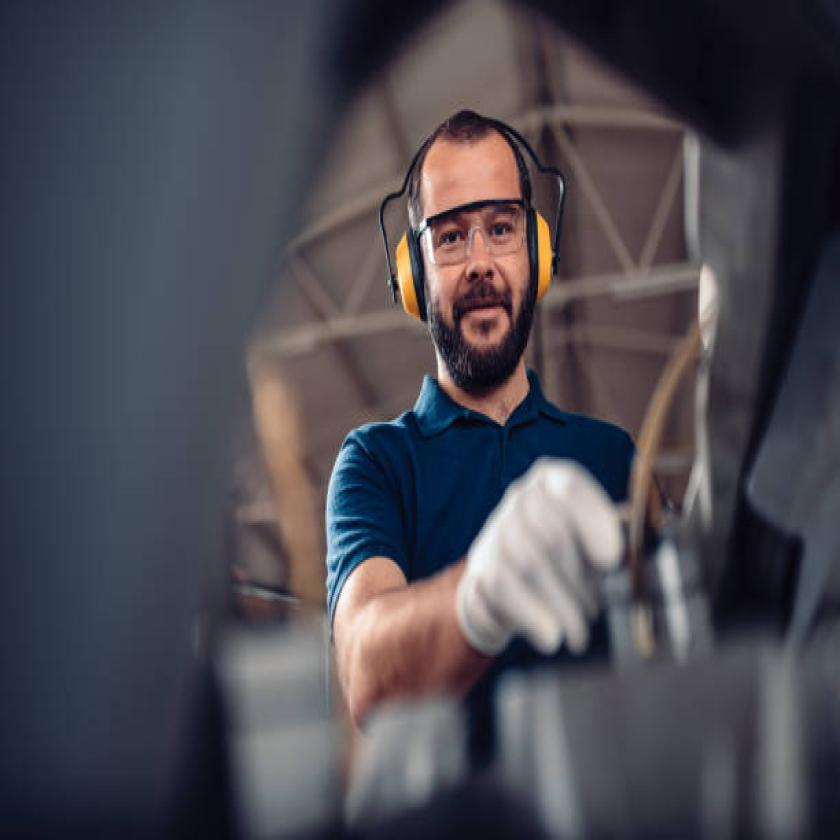Sin_casco: (368, 83, 593, 403)
